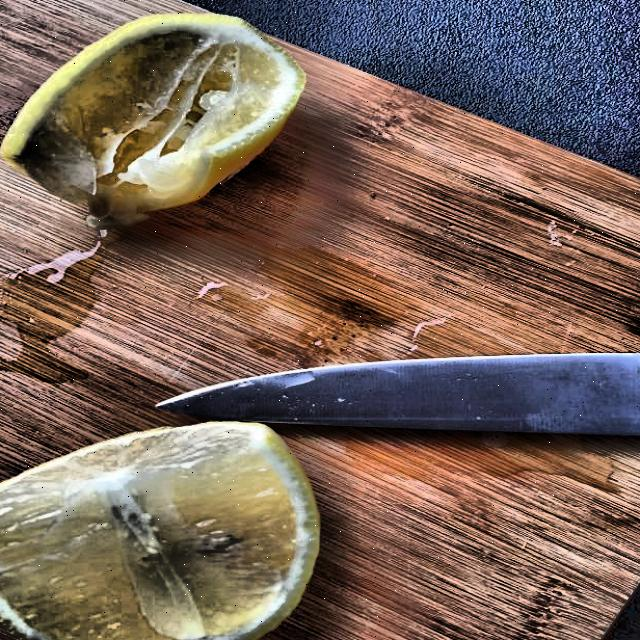knife: (150, 346, 640, 449)
